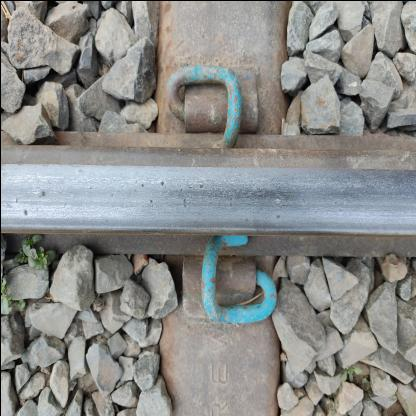Non Defective 1: (126, 78, 256, 194), (147, 240, 277, 354)
